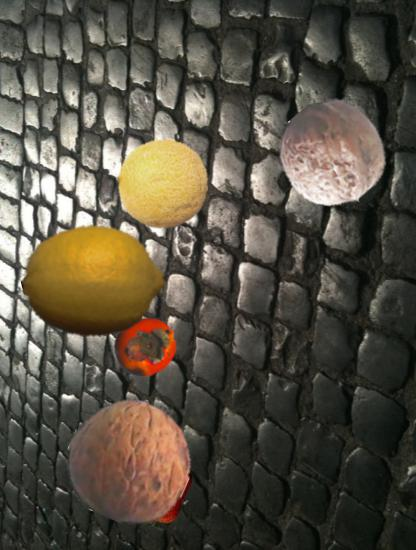Cantaloupe: (116, 138, 209, 231)
Kaki: (114, 315, 178, 379)
Lemon: (23, 212, 164, 353)
Strawberry: (132, 466, 196, 530)
Walnut: (68, 398, 193, 523), (279, 101, 386, 208)
